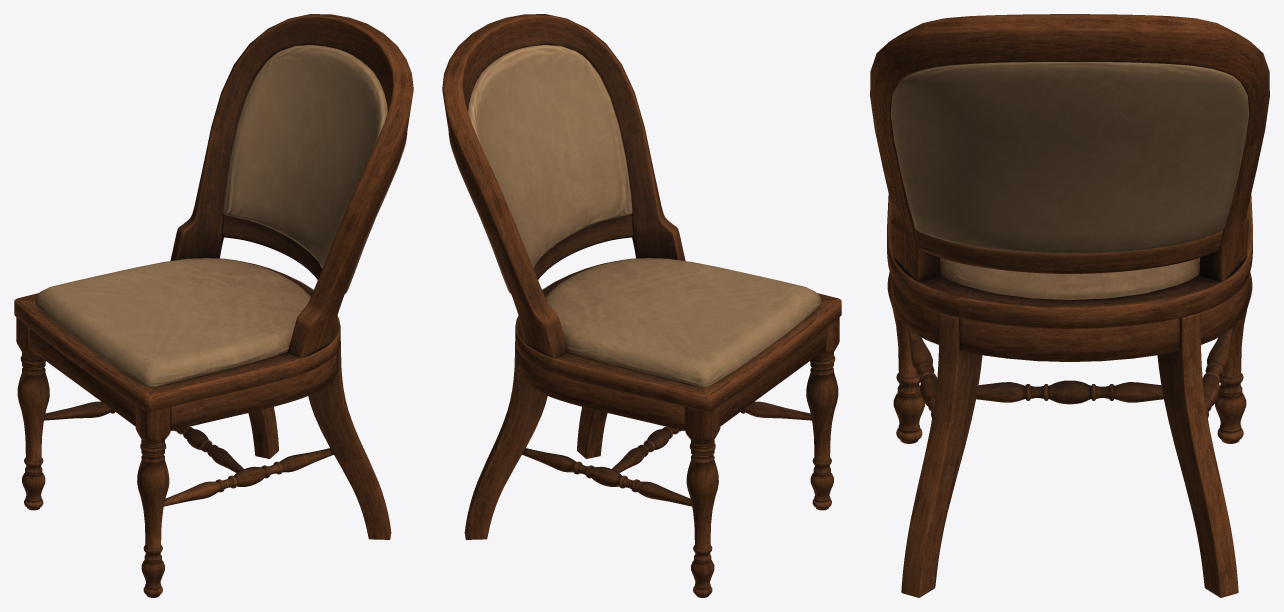
File: Chair.fbx
The picture shows the model from 3 angles, left to right: view 1: azimuth 30°, elevation 25°; view 2: azimuth 150°, elevation 25°; view 3: azimuth 270°, elevation 25°; orthographic projection. The views are drawn at different scales.
Parts seen in each view (by area): view 1: Chair; view 2: Chair; view 3: Chair.
Boxes of the visible parts, box(x1,y1,x2,y2) form: Chair: box(14, 14, 413, 597); Chair: box(442, 14, 841, 597); Chair: box(870, 14, 1269, 597).
Bounding box in the file's own units: 66.39 × 92.68 × 55.36.
